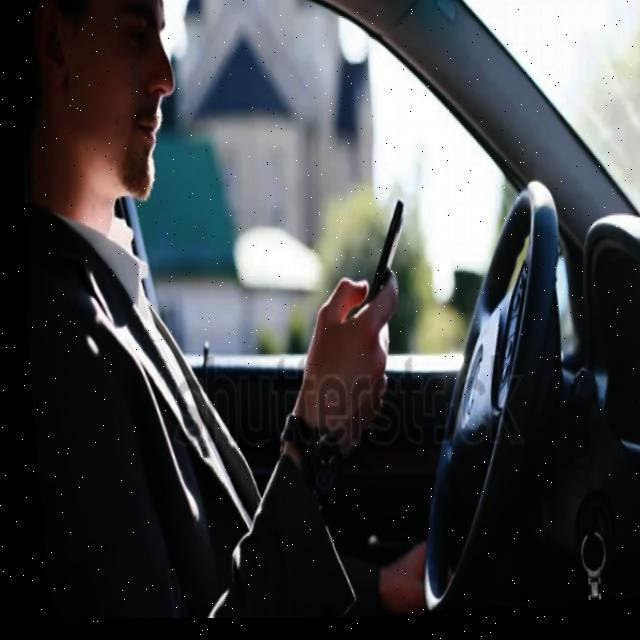PhoneCall: (343, 205, 410, 341)
